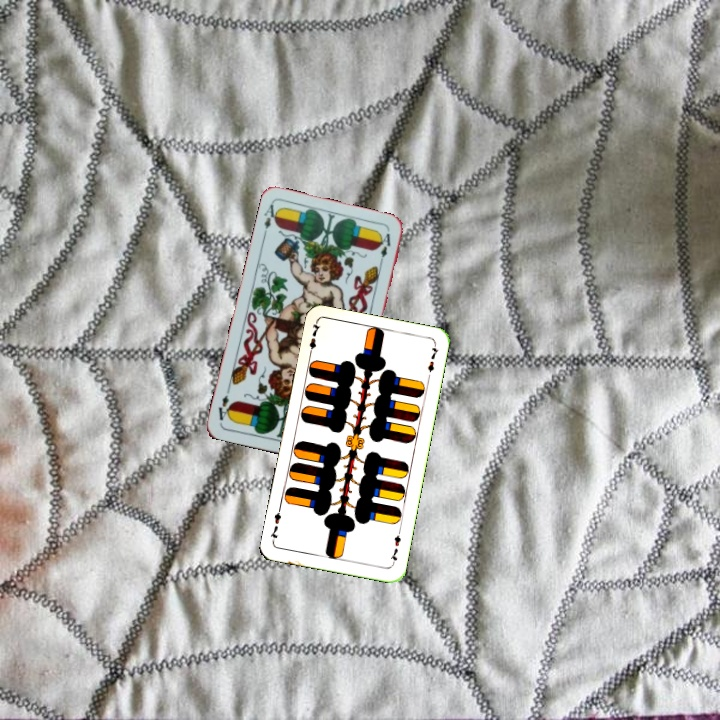E7: (305, 319, 323, 359), (386, 527, 403, 567)
EA: (259, 200, 282, 240)
